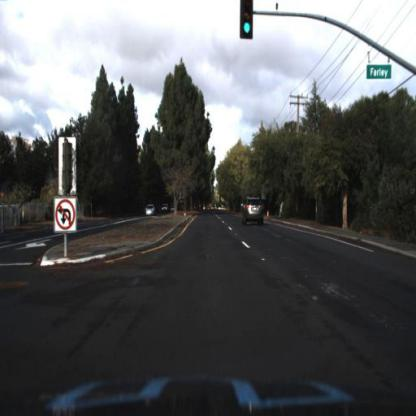car: (242, 197, 265, 226), (145, 203, 156, 220), (161, 203, 169, 217)
